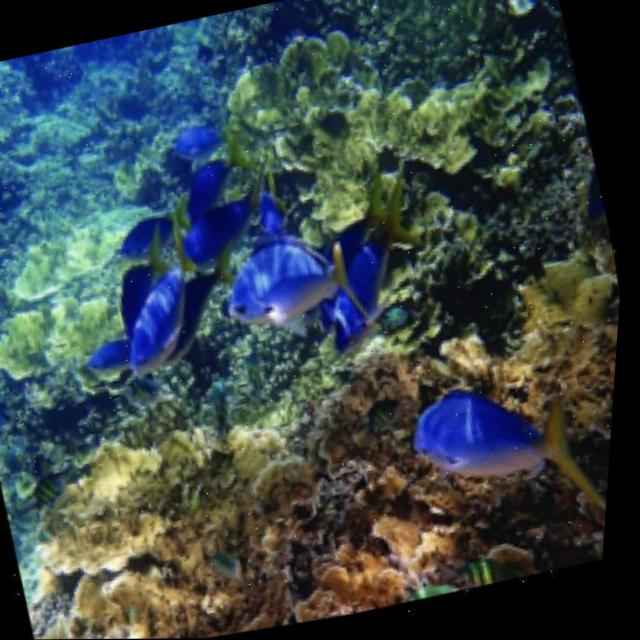Dead Coral: (7, 362, 464, 640), (201, 0, 554, 261), (462, 260, 626, 470), (0, 34, 154, 244)
